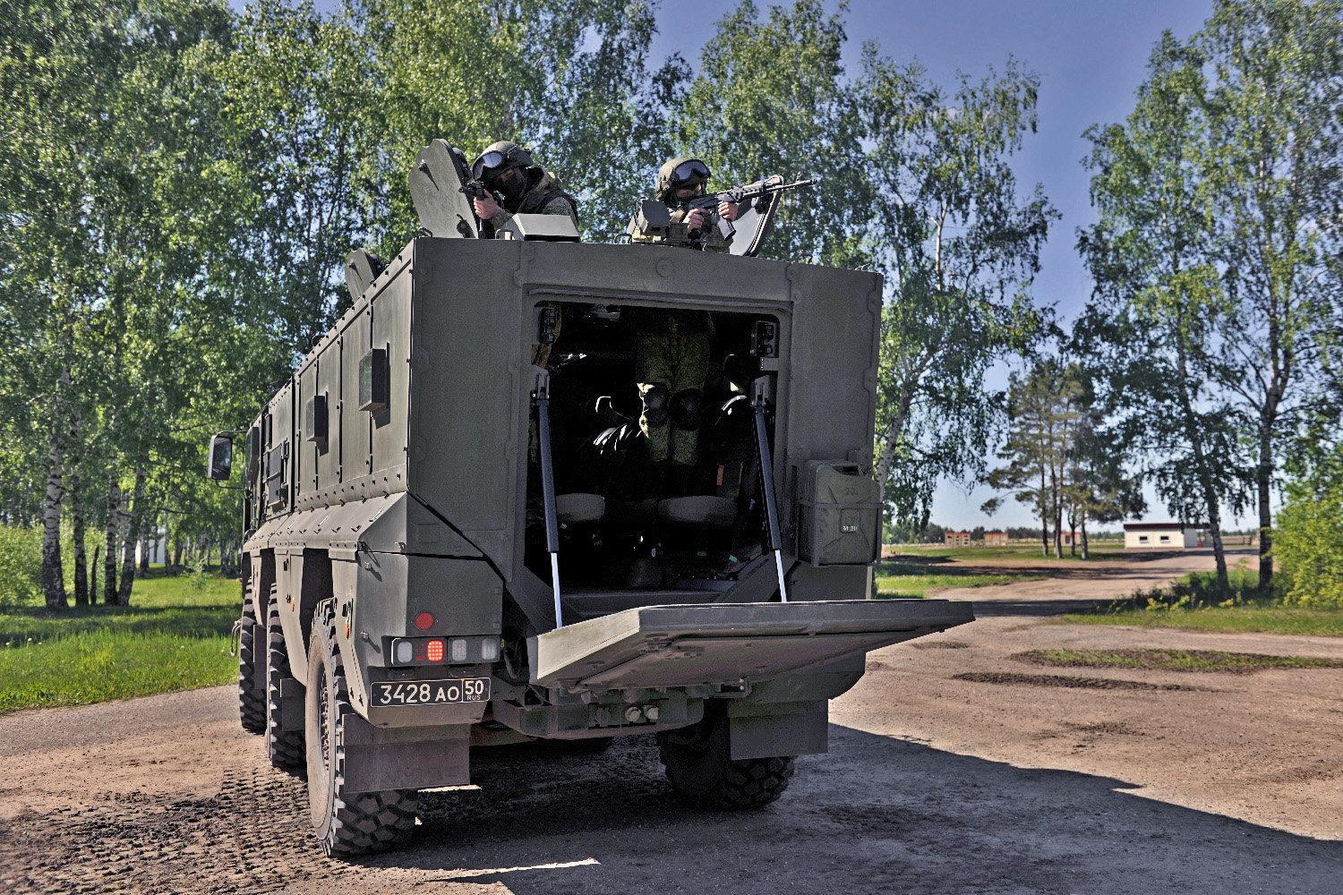truck: (204, 123, 937, 822)
